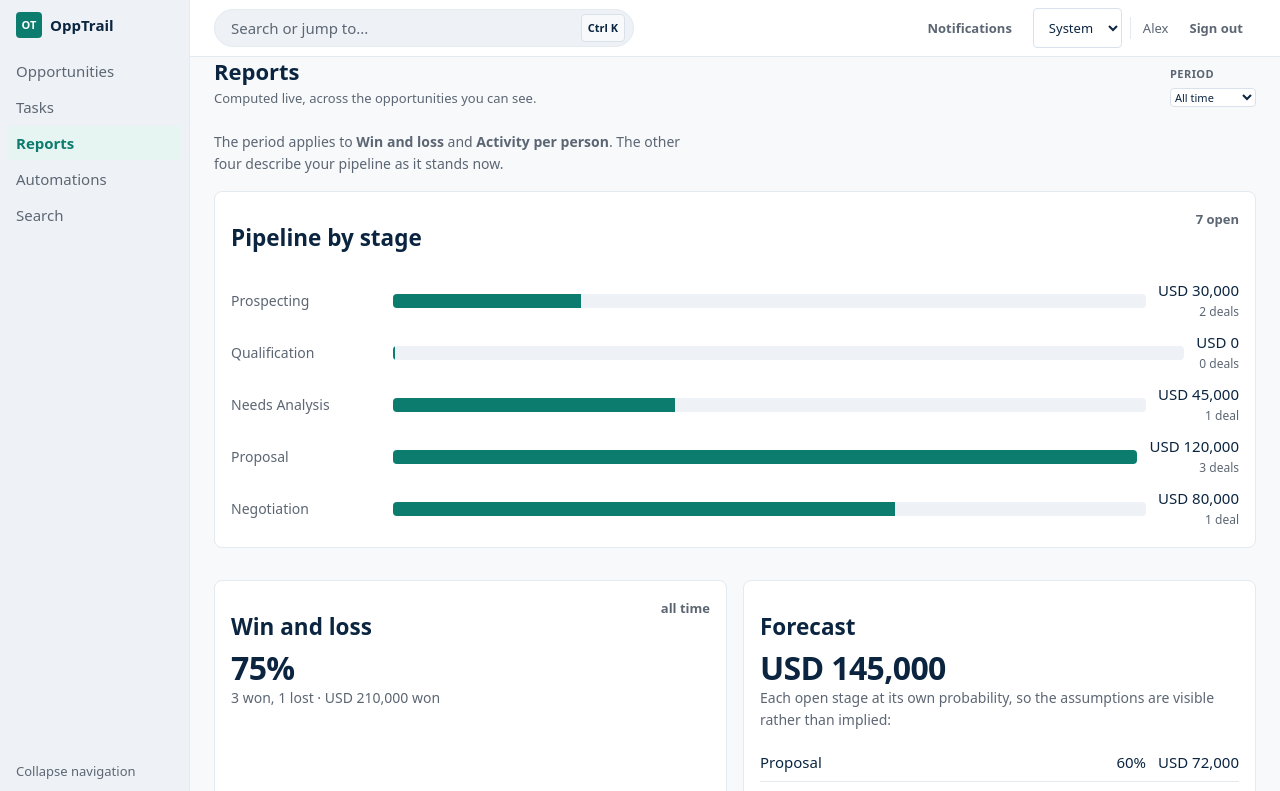
Test case: the six aggregations on screen › drives both windowed metrics from the period, and says which
Expected: the heading "Reports" is shown, [214, 56, 300, 86]
Expected: the text "The period applies to" is shown, [214, 132, 356, 151]
Step 1. Select "Last 30 days" in the dropdown named "Win and loss period" → point(1213, 98), box [1170, 88, 1256, 107]
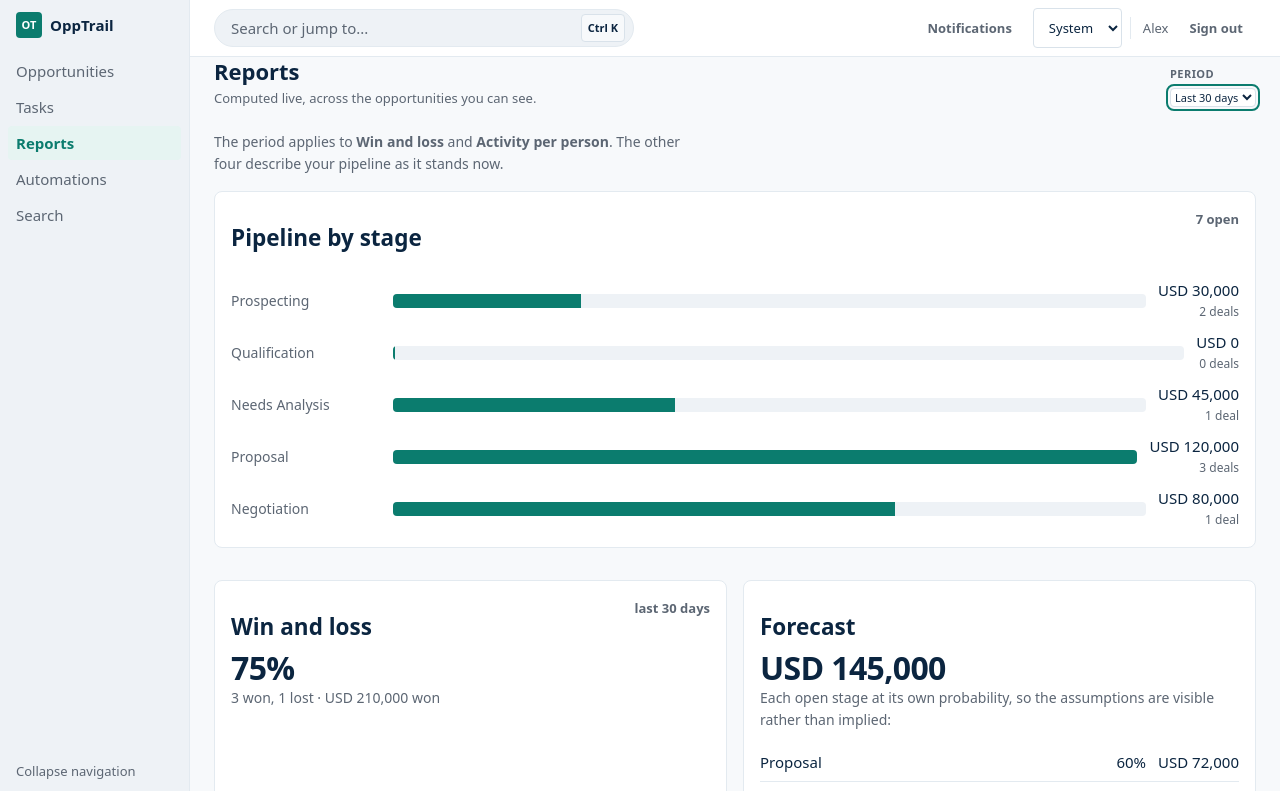
Result: the text "last 30 days" is shown at [634, 597, 710, 619]
